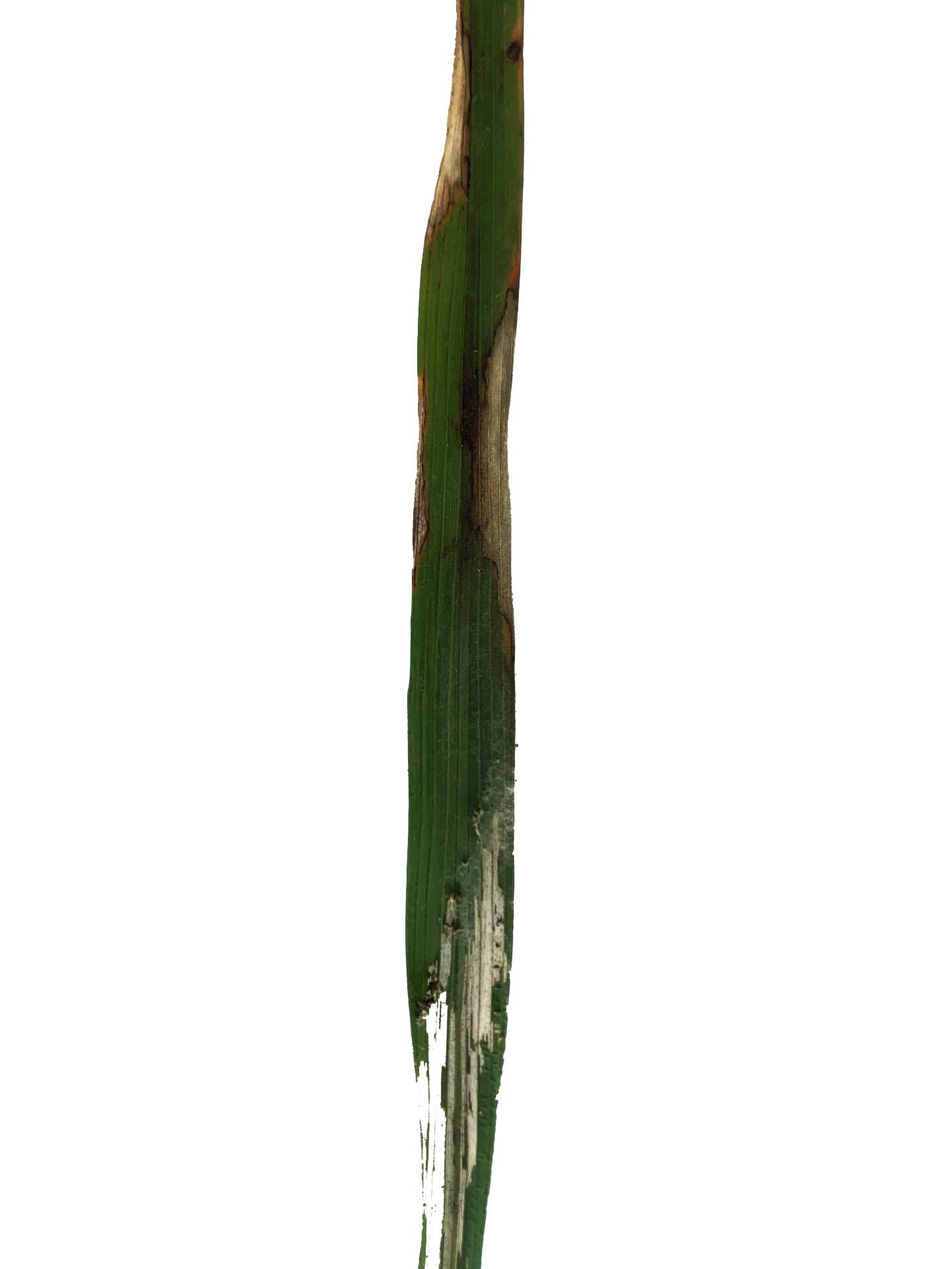Blight: (410, 826, 532, 1252), (473, 291, 555, 598), (407, 13, 489, 225)
